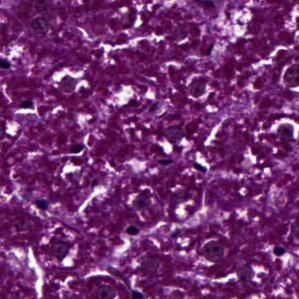inflammation: (47, 65, 86, 100), (44, 231, 78, 265), (181, 71, 214, 102), (265, 115, 299, 143)
